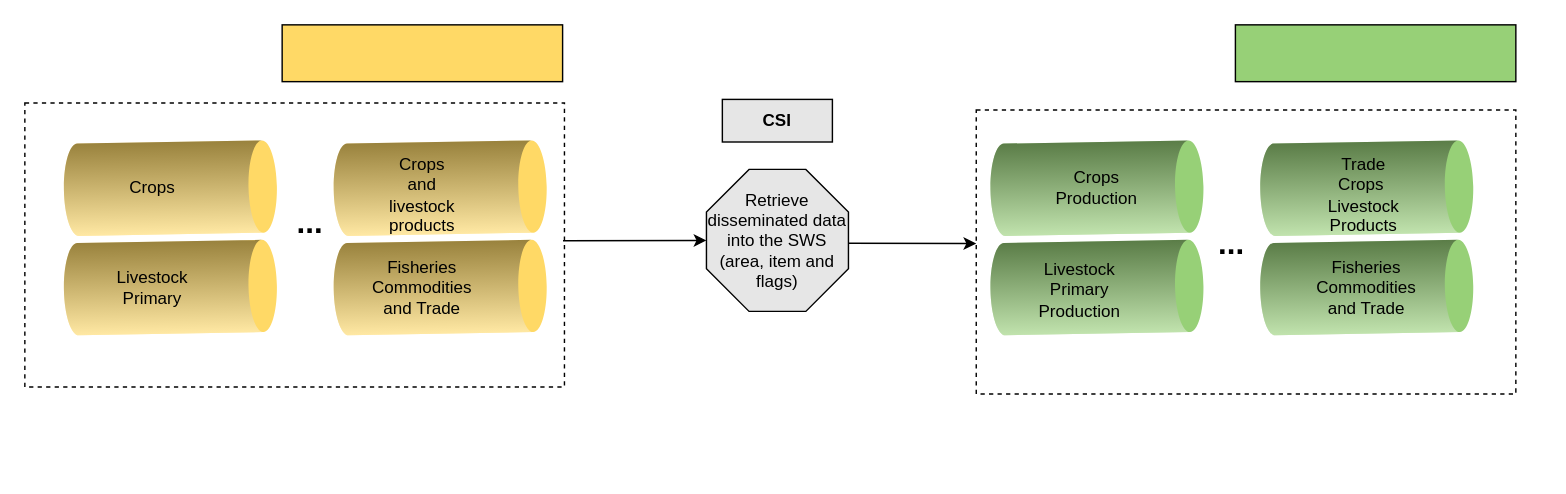
The diagram is 1566 pixels wide and 494 high, and some of its shapes have lost their labels. Here are the shapes that lost their labels. From the top down, the centre of each, then its label:
At [422,52]: "Data from dissemination platforms (FAOSTAT, Fishery, etc)".
At [1375,52]: "SWS Domain: Disseminated Datasets".
